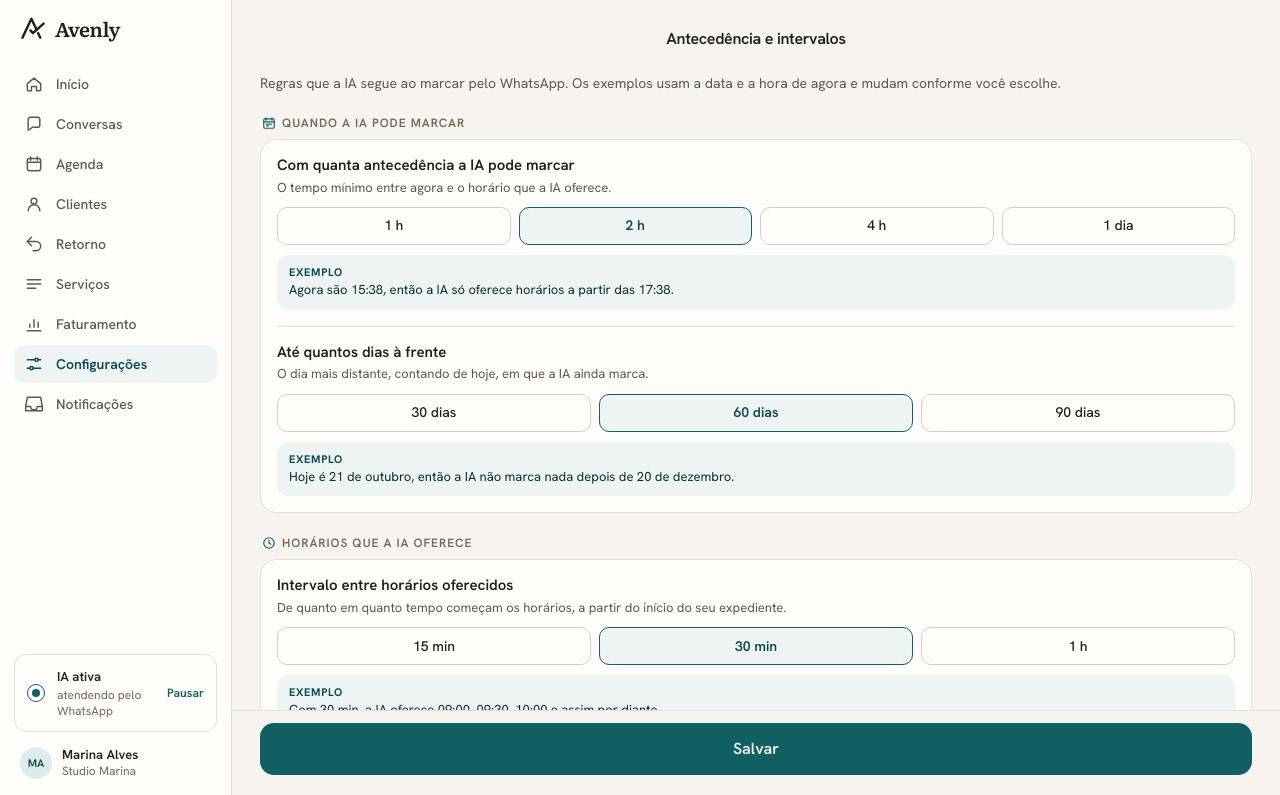
it: Goal097 prova 3: AG3 — /configuracoes/agenda/regras › falha ao salvar mostra erro e não perde a edição
Click the radio button labelled "1 dia": point(1118, 226) x1=1002 y1=207 x2=1235 y2=245
(page scrolled)
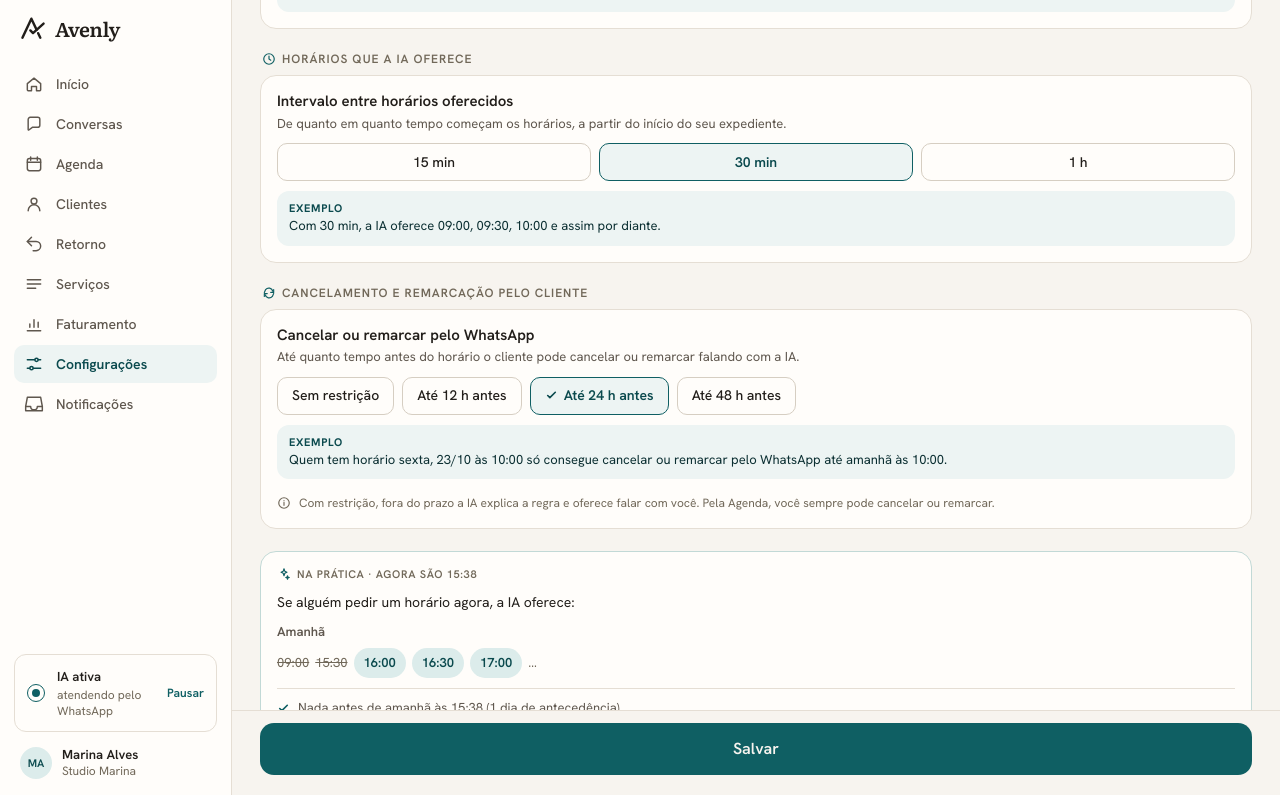
Click the radio button labelled "Até 48 h antes": point(736, 396) x1=677 y1=377 x2=796 y2=415
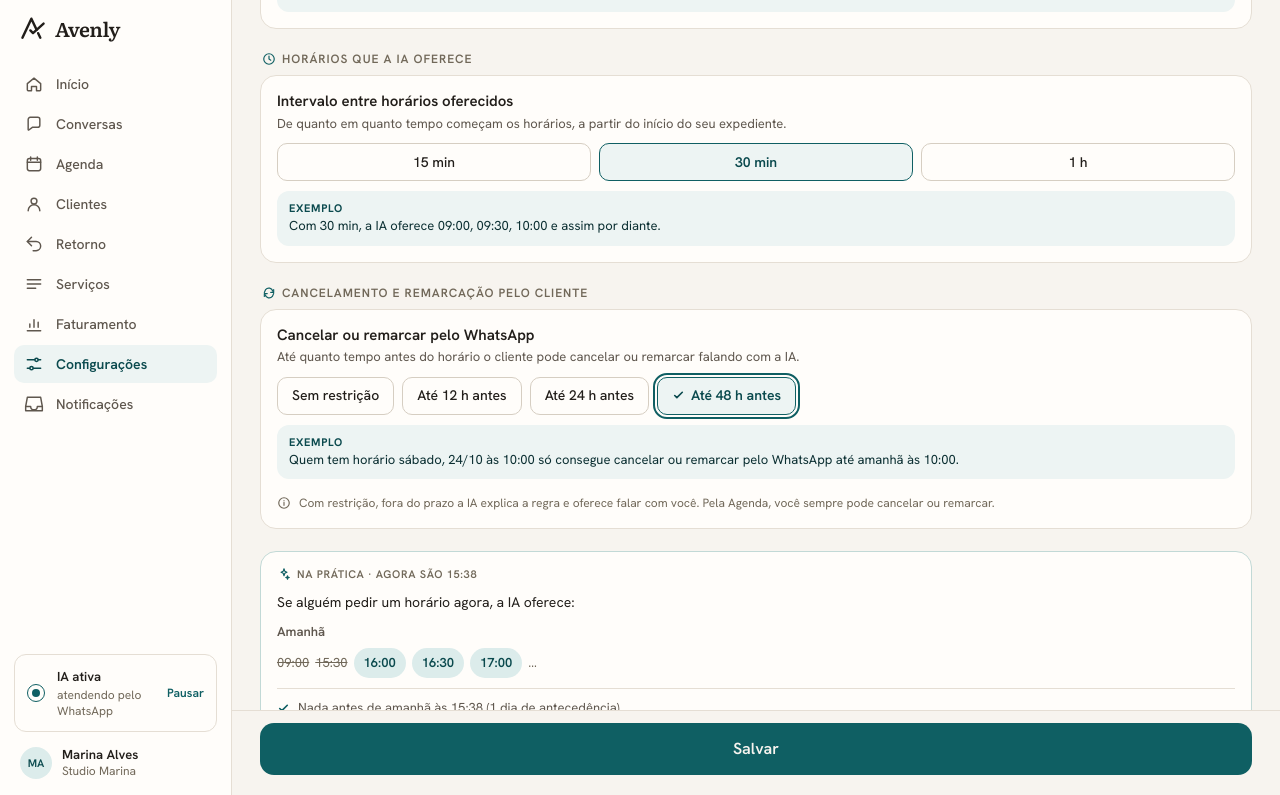
Click the button "Salvar": point(756, 749) x1=260 y1=723 x2=1252 y2=775
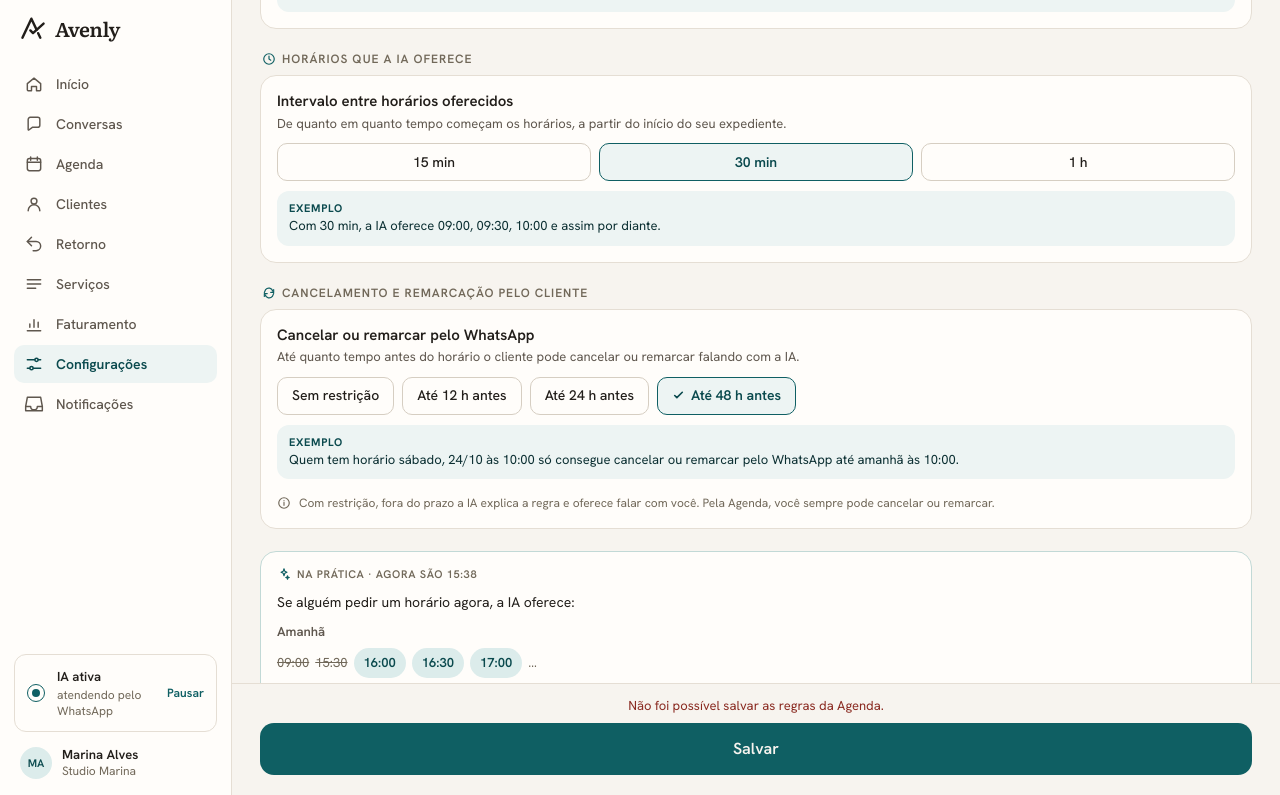
Check: the radio button labelled "Até 48 h antes" is shown, box x1=657 y1=377 x2=796 y2=415
Check: the message "Não foi possível salvar as regras da Agenda." is shown, box x1=628 y1=696 x2=884 y2=714
